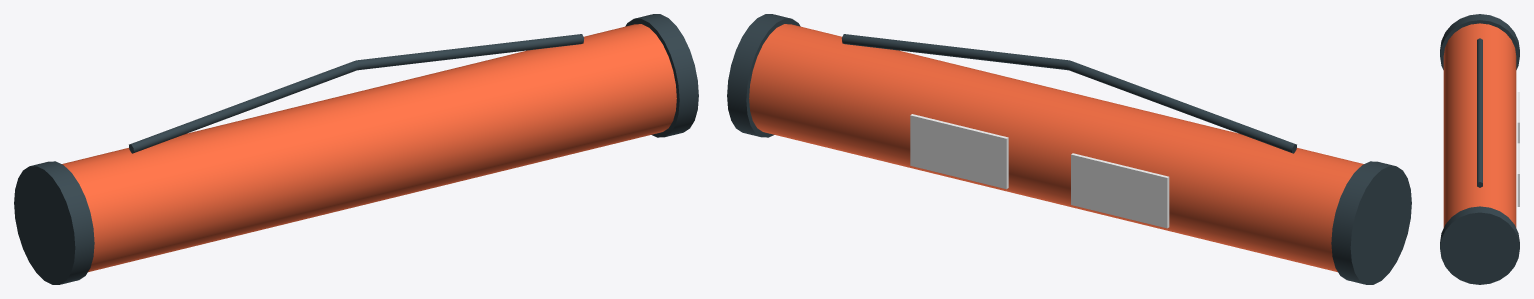
File: poster_tube.fbx
3 views of the same model, side by side, from view 1: azimuth 30°, elevation 25°; view 2: azimuth 150°, elevation 25°; view 3: azimuth 270°, elevation 25° (orthographic). The views are drawn at different scales.
Parts seen in each view (by area): view 1: Poster Tube; view 2: Poster Tube; view 3: Poster Tube.
Part boxes in pixels (x1,y1,x2,y2): Poster Tube: [14, 14, 698, 284]; Poster Tube: [727, 14, 1411, 284]; Poster Tube: [1440, 14, 1519, 284].
Size of the model in its own units: 3.88 by 0.86 by 0.66.
